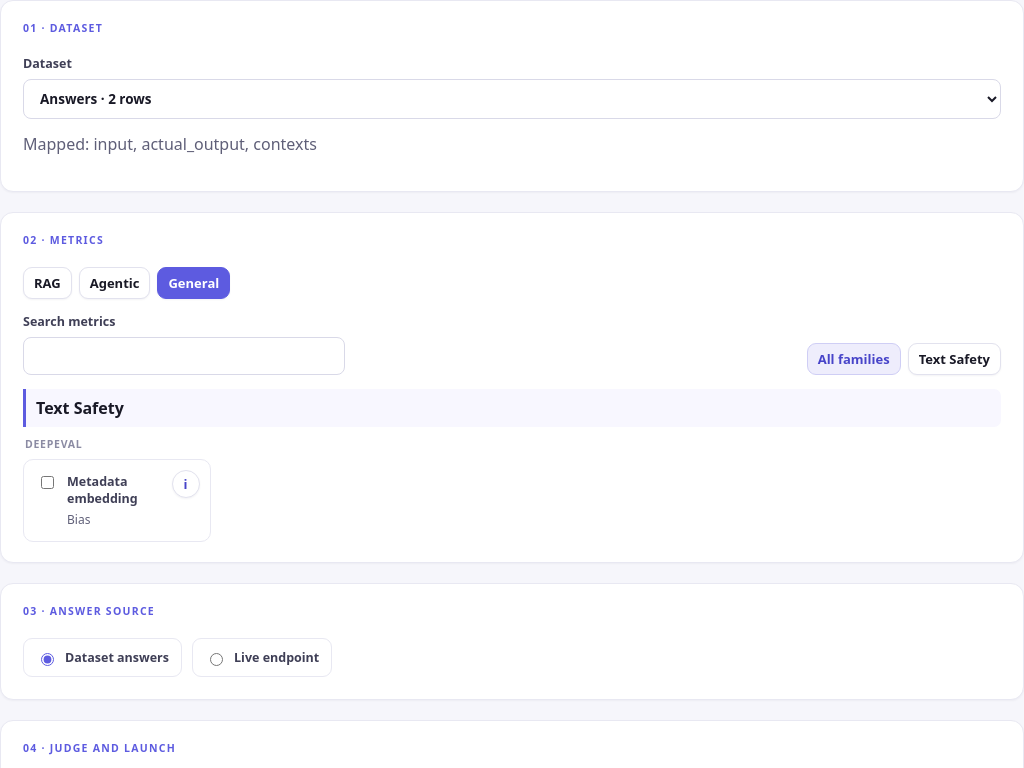
Test case: RunWizard › discovers embedding requirements from metric resource metadata
The width and height of the screenshot is (1024, 768).
Click the checkbox labelled "Metadata embedding": [48, 483] box [41,476,54,489]
(page scrolled)
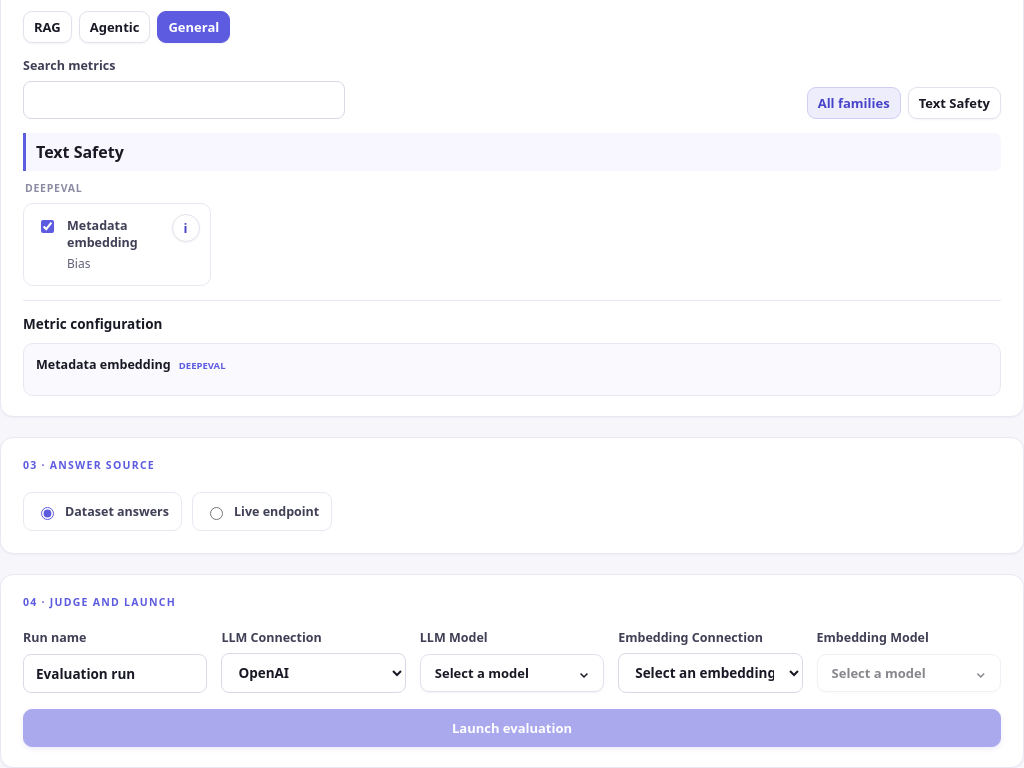
Expected: the dropdown labelled "Embedding Connection" is shown, [618,653,803,693]
Expected: the button named "Embedding Model" is shown, [817,654,1001,692]
